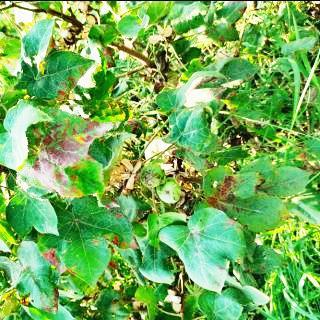blight: (17, 98, 123, 204)
